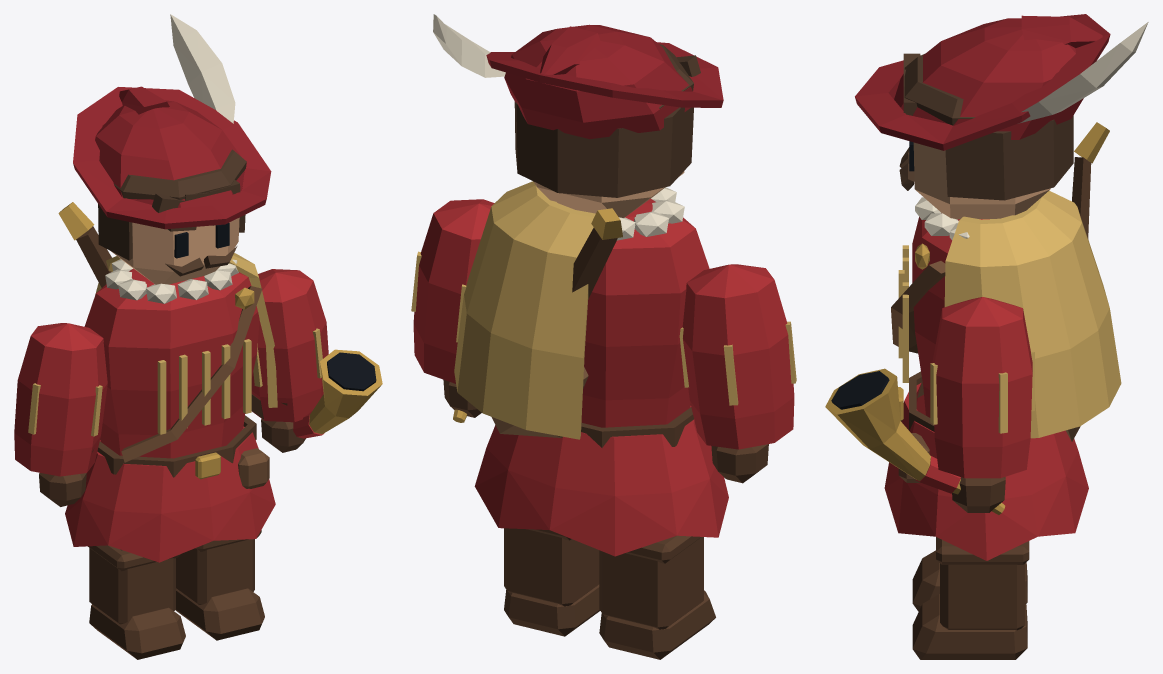
File: Bard.fbx
3 renders of one model, left to right at view 1: azimuth 30°, elevation 25°; view 2: azimuth 150°, elevation 25°; view 3: azimuth 270°, elevation 25°, orthographic. The views are drawn at different scales.
Visible parts, largest first — view 1: Torso, Cap, Peplum, RightArm, RightLegBoot, LeftArm, LeftLegBoot, FaceHair, Head, Feather, Slashes, Ruff (+15 smaller); view 2: Cape, Peplum, Torso, Cap, RightArm, FaceHair, RightLegBoot, LeftLegBoot, LeftArm, Ruff, Feather, Head (+7 smaller); view 3: Cape, Cap, LeftArm, Peplum, LeftLegBoot, FaceHair, WarHorn, Head, Torso, Feather, LuteStrap, LeftArmGlove (+9 smaller).
Boxes of the visible parts, left/top/right/bottom form: Torso: left=84, top=268, right=259, bottom=458; Cap: left=73, top=86, right=271, bottom=229; Peplum: left=65, top=426, right=275, bottom=562; RightArm: left=14, top=323, right=107, bottom=476; RightLegBoot: left=88, top=545, right=185, bottom=659; LeftArm: left=251, top=269, right=328, bottom=422; LeftLegBoot: left=175, top=530, right=264, bottom=640; FaceHair: left=98, top=149, right=246, bottom=260; Head: left=111, top=217, right=239, bottom=284; Feather: left=170, top=14, right=235, bottom=123; Slashes: left=157, top=339, right=251, bottom=434; Ruff: left=105, top=259, right=238, bottom=303; Cape: left=454, top=181, right=595, bottom=439; Peplum: left=474, top=405, right=728, bottom=556; Torso: left=581, top=198, right=709, bottom=427; Cap: left=486, top=24, right=723, bottom=139; RightArm: left=682, top=264, right=794, bottom=449; FaceHair: left=514, top=44, right=700, bottom=197; RightLegBoot: left=599, top=535, right=715, bottom=659; LeftLegBoot: left=504, top=528, right=600, bottom=636; LeftArm: left=413, top=199, right=494, bottom=383; Ruff: left=617, top=187, right=684, bottom=240; Feather: left=433, top=14, right=505, bottom=77; Head: left=533, top=171, right=684, bottom=217; Cape: left=944, top=190, right=1121, bottom=438; Cap: left=855, top=14, right=1110, bottom=150; LeftArm: left=932, top=297, right=1032, bottom=478; Peplum: left=884, top=383, right=1088, bottom=560; LeftLegBoot: left=912, top=537, right=1029, bottom=659; FaceHair: left=903, top=53, right=1073, bottom=200; WarHorn: left=825, top=368, right=1005, bottom=514; Head: left=913, top=142, right=1050, bottom=219; Torso: left=912, top=213, right=989, bottom=417; Feather: left=1018, top=22, right=1148, bottom=123; LuteStrap: left=891, top=261, right=945, bottom=353; LeftArmGlove: left=952, top=477, right=1005, bottom=512.
Bounding box in the file's own units: 4.05 × 6.83 × 3.12.
